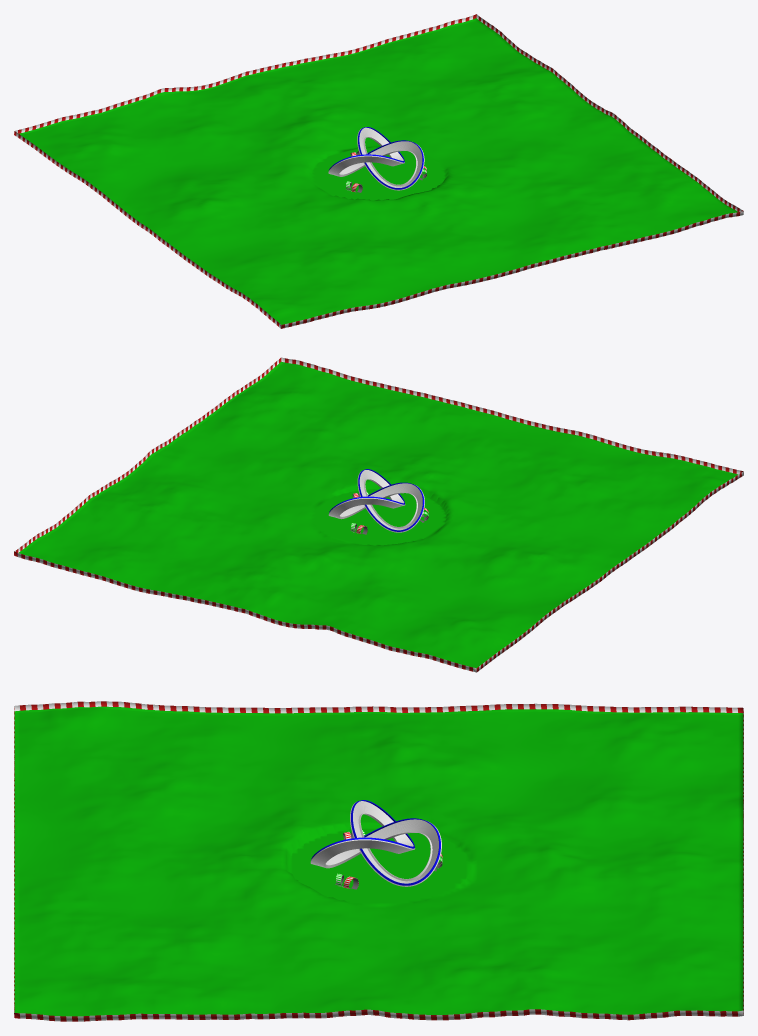
The model's file is TESTES PISTA E Triangulada.glb.
3 views of the same model, one above another, from view 1: azimuth 30°, elevation 25°; view 2: azimuth 150°, elevation 25°; view 3: azimuth 270°, elevation 25° (orthographic). The views are drawn at different scales.
Visible parts, largest first — view 1: Landscape.001, Pista.002 Subdividida X5 Triangulada; view 2: Landscape.001, Pista.002 Subdividida X5 Triangulada; view 3: Landscape.001, Pista.002 Subdividida X5 Triangulada.
Boxes of the visible parts, <box> form: Landscape.001: <box>14,14,743,328</box>; Pista.002 Subdividida X5 Triangulada: <box>328,127,424,190</box>; Landscape.001: <box>14,357,743,672</box>; Pista.002 Subdividida X5 Triangulada: <box>328,469,424,532</box>; Landscape.001: <box>14,701,743,1021</box>; Pista.002 Subdividida X5 Triangulada: <box>310,800,441,886</box>.
Bounding box in the file's own units: 5933 × 451 × 5934.
